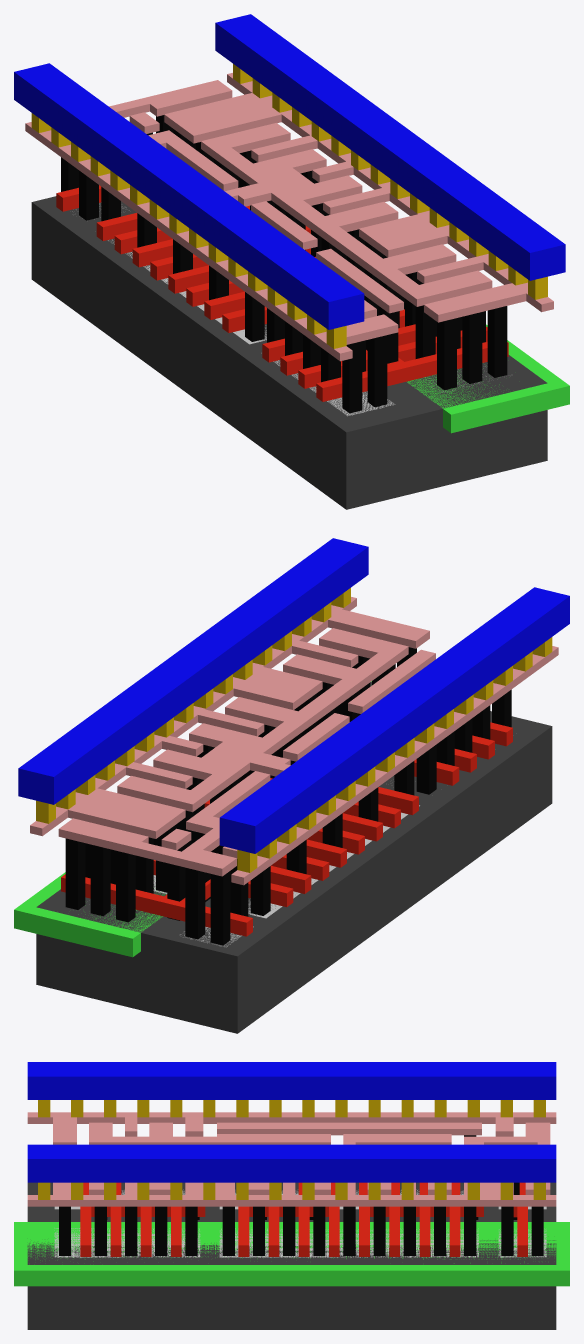
Rendered from sky130_fd_sc_hd__nand3b_4.obj.
3 renders of one model, top to bottom at view 1: azimuth 30°, elevation 25°; view 2: azimuth 150°, elevation 25°; view 3: azimuth 270°, elevation 25°, orthographic. The views are drawn at different scales.
Visible parts, largest first — view 1: subs, metal1, li, licon, poly, mcon, nwell, diff; view 2: subs, metal1, li, licon, poly, mcon, nwell, diff; view 3: metal1, subs, li, nwell, licon, poly, mcon, tap.
Boxes of the visible parts, x1,y1,x2,y2 form: subs: [31, 196, 547, 509]; metal1: [14, 14, 565, 329]; li: [25, 73, 553, 361]; licon: [61, 115, 507, 413]; poly: [56, 185, 508, 401]; mcon: [31, 64, 547, 348]; nwell: [407, 324, 569, 433]; diff: [72, 203, 395, 416]; subs: [36, 682, 552, 1033]; metal1: [18, 538, 569, 853]; li: [30, 597, 558, 885]; licon: [65, 647, 511, 945]; poly: [61, 722, 512, 936]; mcon: [36, 588, 552, 872]; nwell: [14, 681, 371, 957]; diff: [180, 805, 419, 947]; metal1: [27, 1062, 556, 1182]; subs: [27, 1182, 556, 1329]; li: [27, 1112, 556, 1206]; nwell: [14, 1222, 569, 1286]; licon: [59, 1135, 543, 1255]; poly: [80, 1182, 527, 1256]; mcon: [38, 1100, 545, 1199]; tap: [54, 1228, 546, 1257].
Size of the model in its own units: 3.2 by 2.74 by 7.74.
